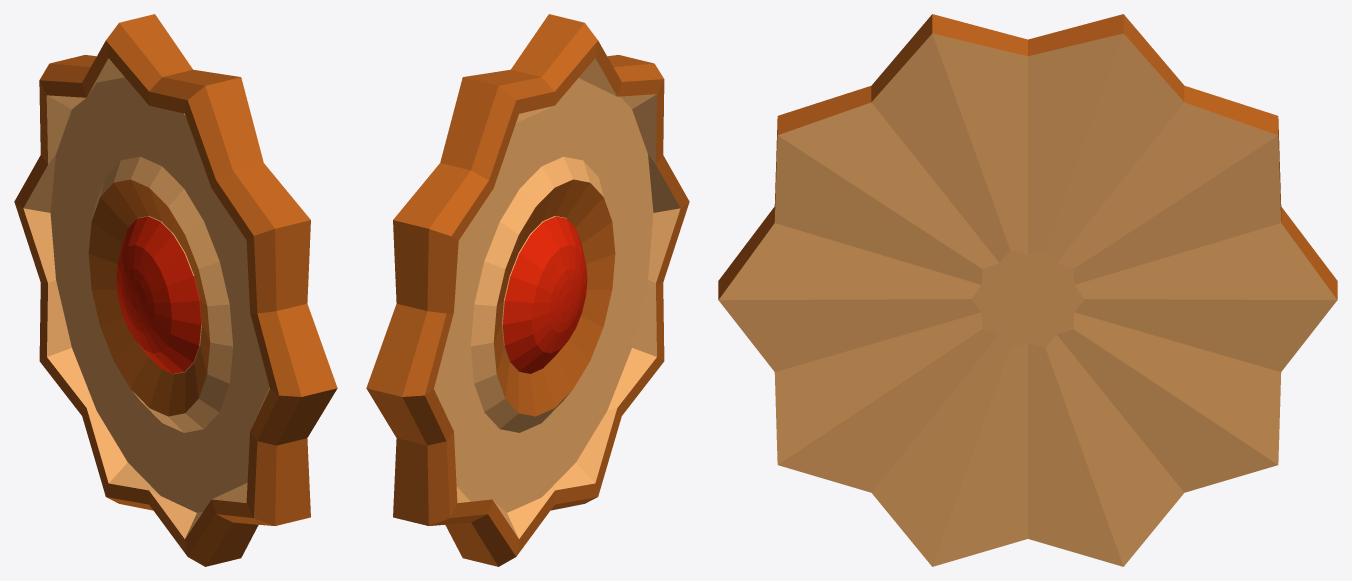
Rendered from cookie 1.fbx.
The picture shows the model from 3 angles, left to right: view 1: azimuth 30°, elevation 25°; view 2: azimuth 150°, elevation 25°; view 3: azimuth 270°, elevation 25°; orthographic projection. The views are drawn at different scales.
Visible parts, largest first — view 1: Coockie 2; view 2: Coockie 2; view 3: Coockie 2.
Boxes of the visible parts, x1,y1,x2,y2 form: Coockie 2: (14, 14, 337, 566); Coockie 2: (366, 14, 689, 566); Coockie 2: (718, 14, 1337, 566).
Bounding box in the file's own units: 3.1 × 22.97 × 24.15.
